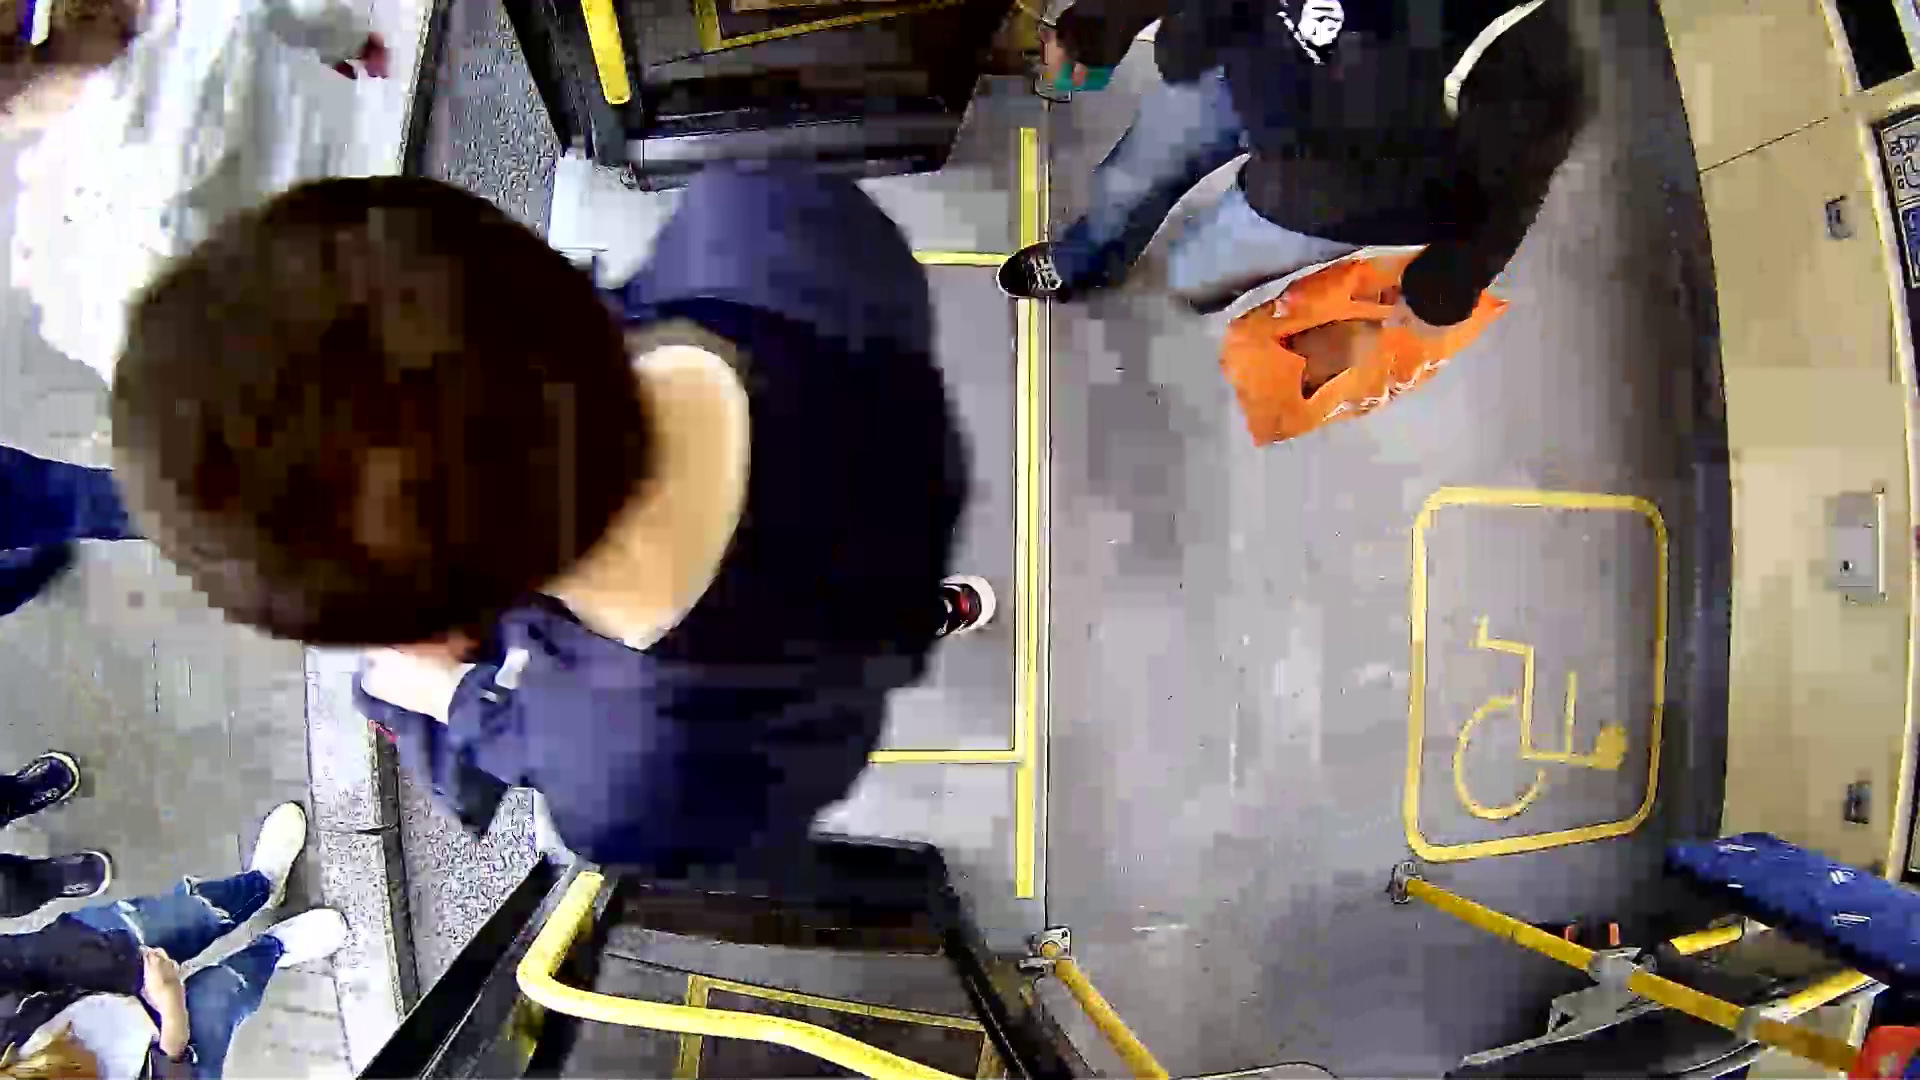person: (113, 151, 1024, 828)
